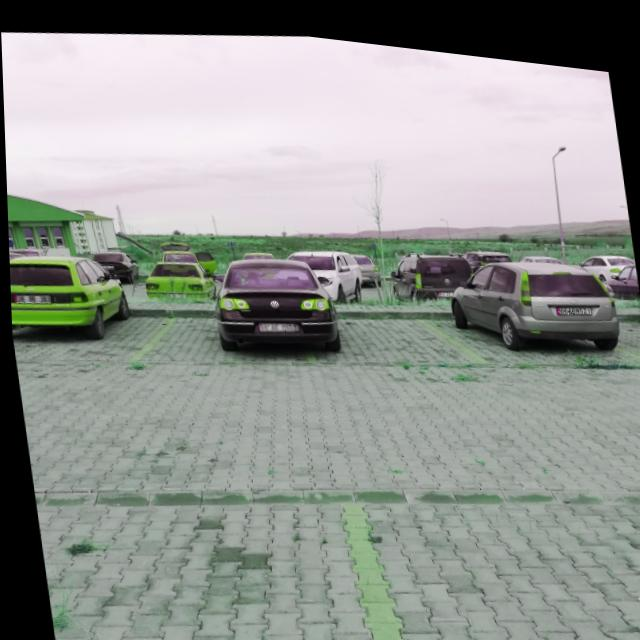license_plate: (256, 313, 296, 328), (11, 291, 49, 305), (554, 289, 590, 303)
